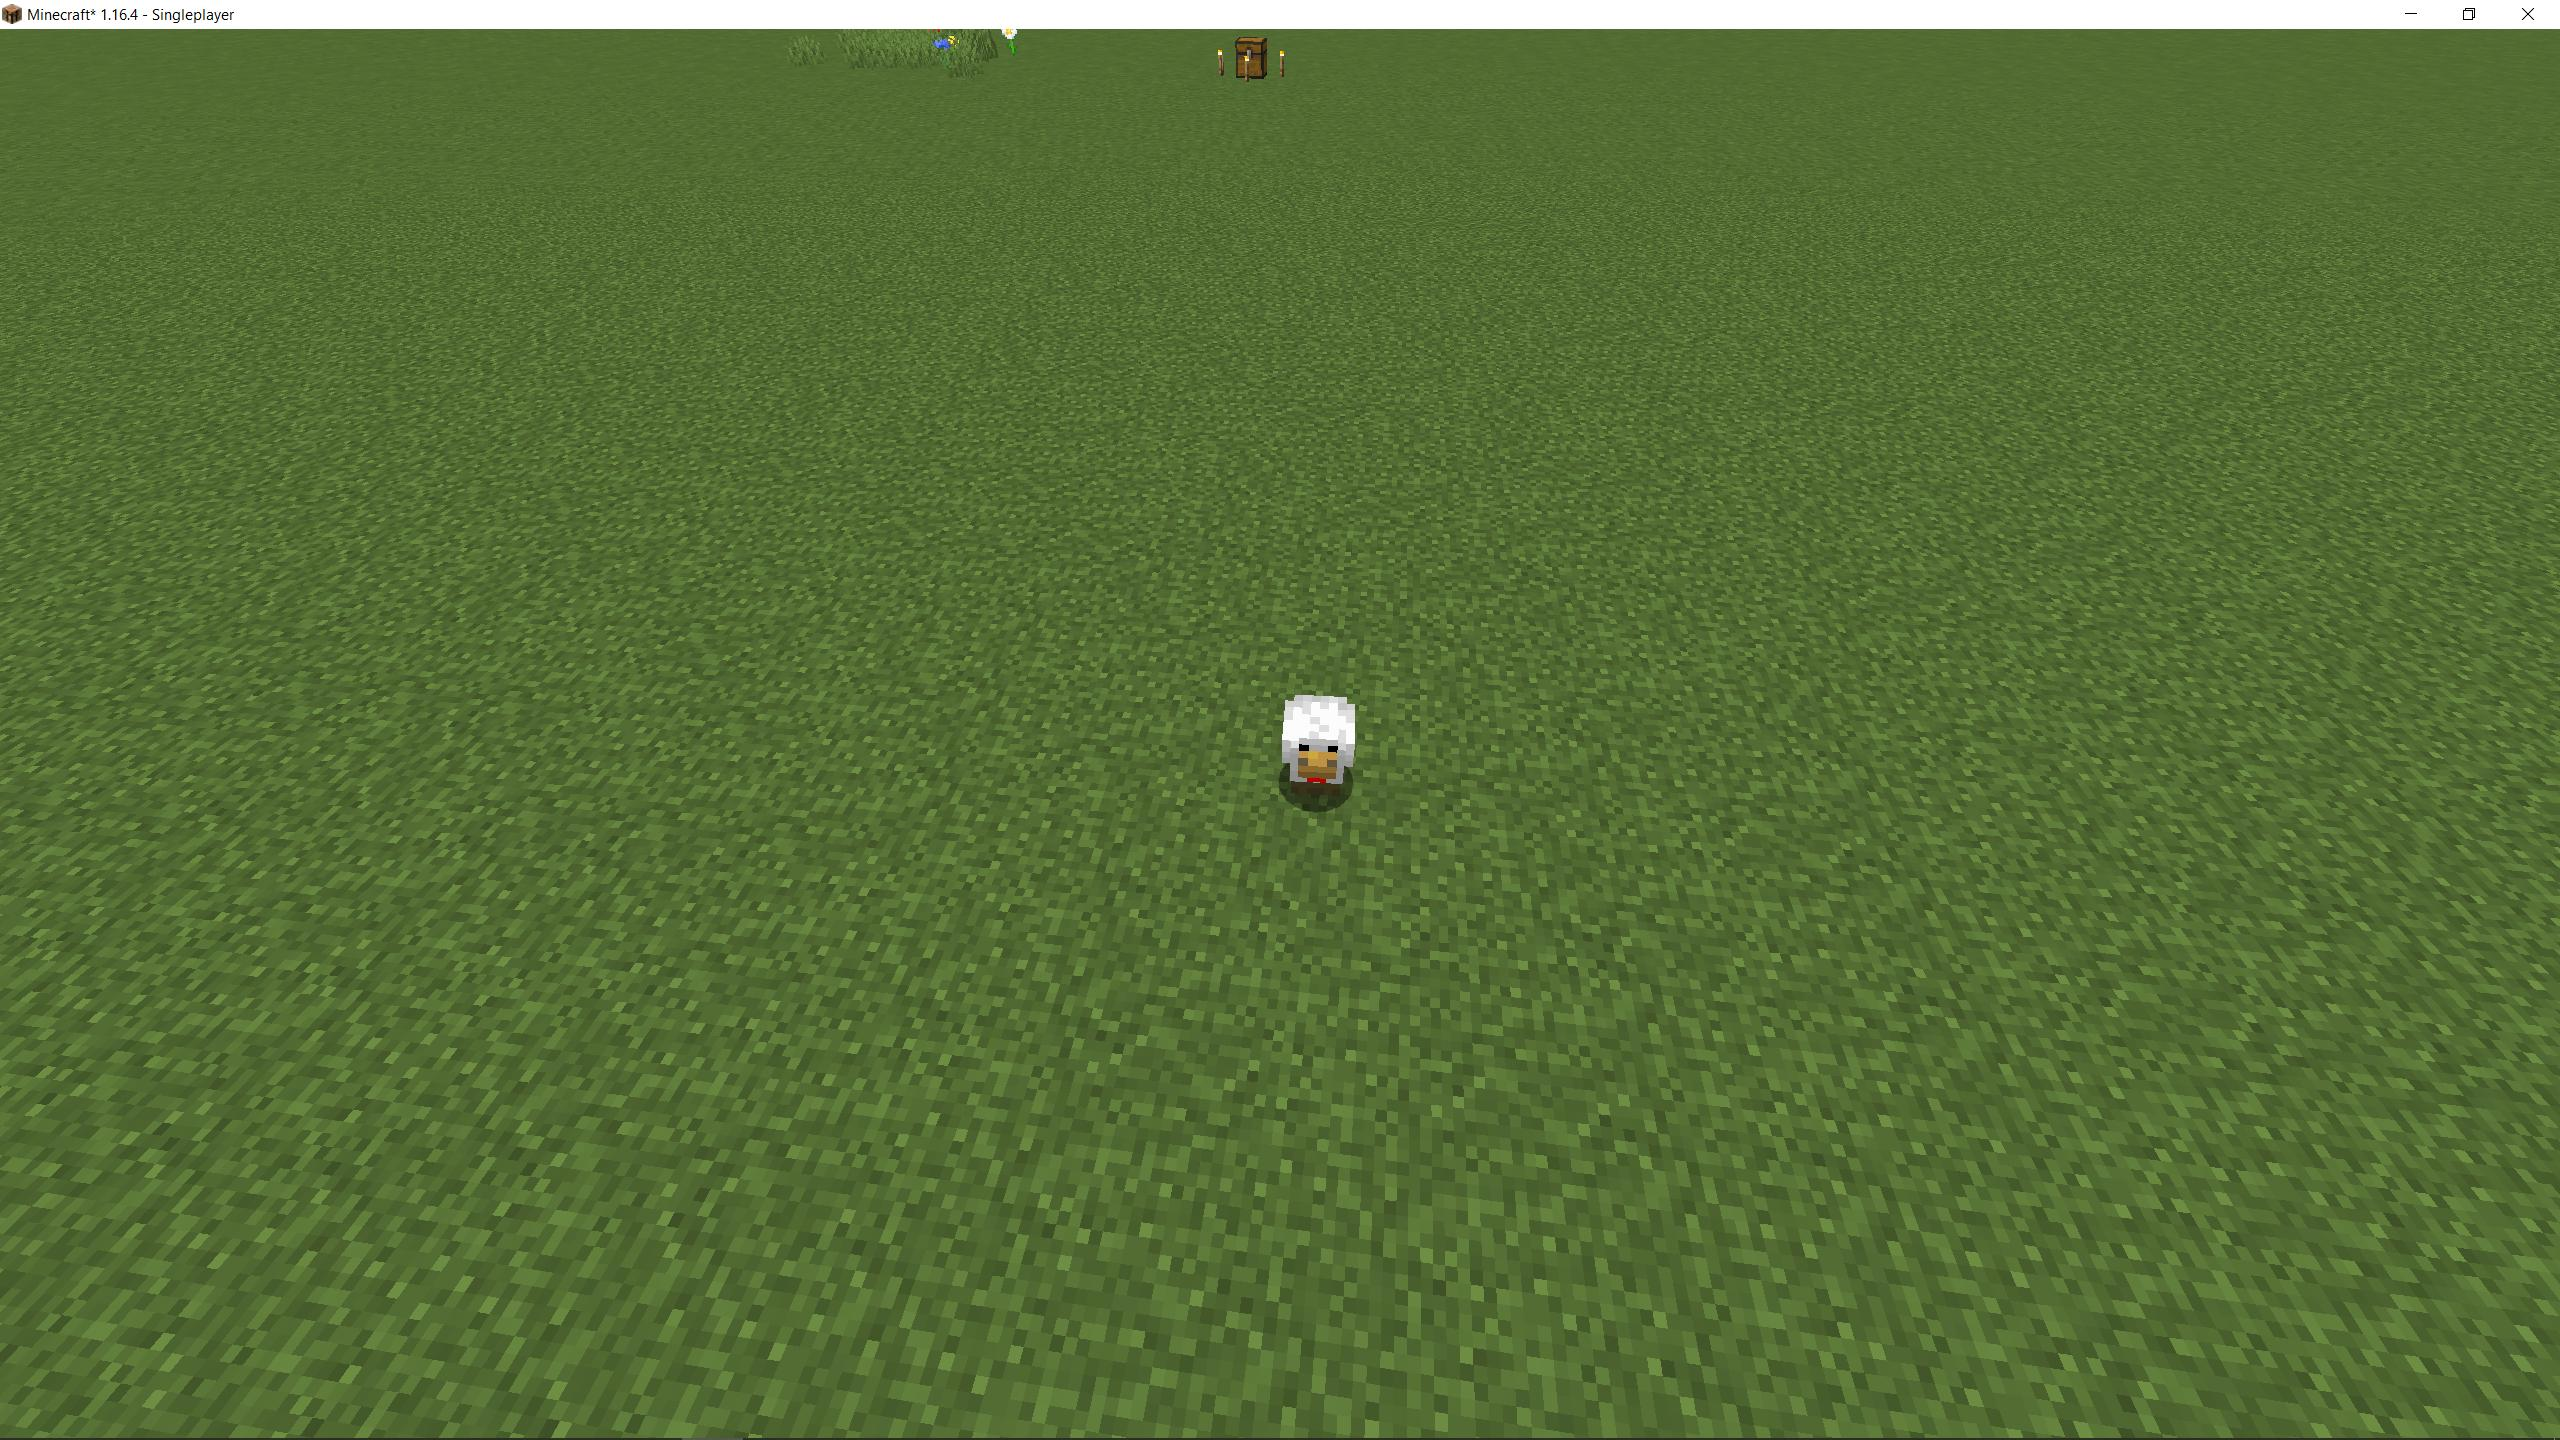chicken: (1271, 680, 1366, 802)
